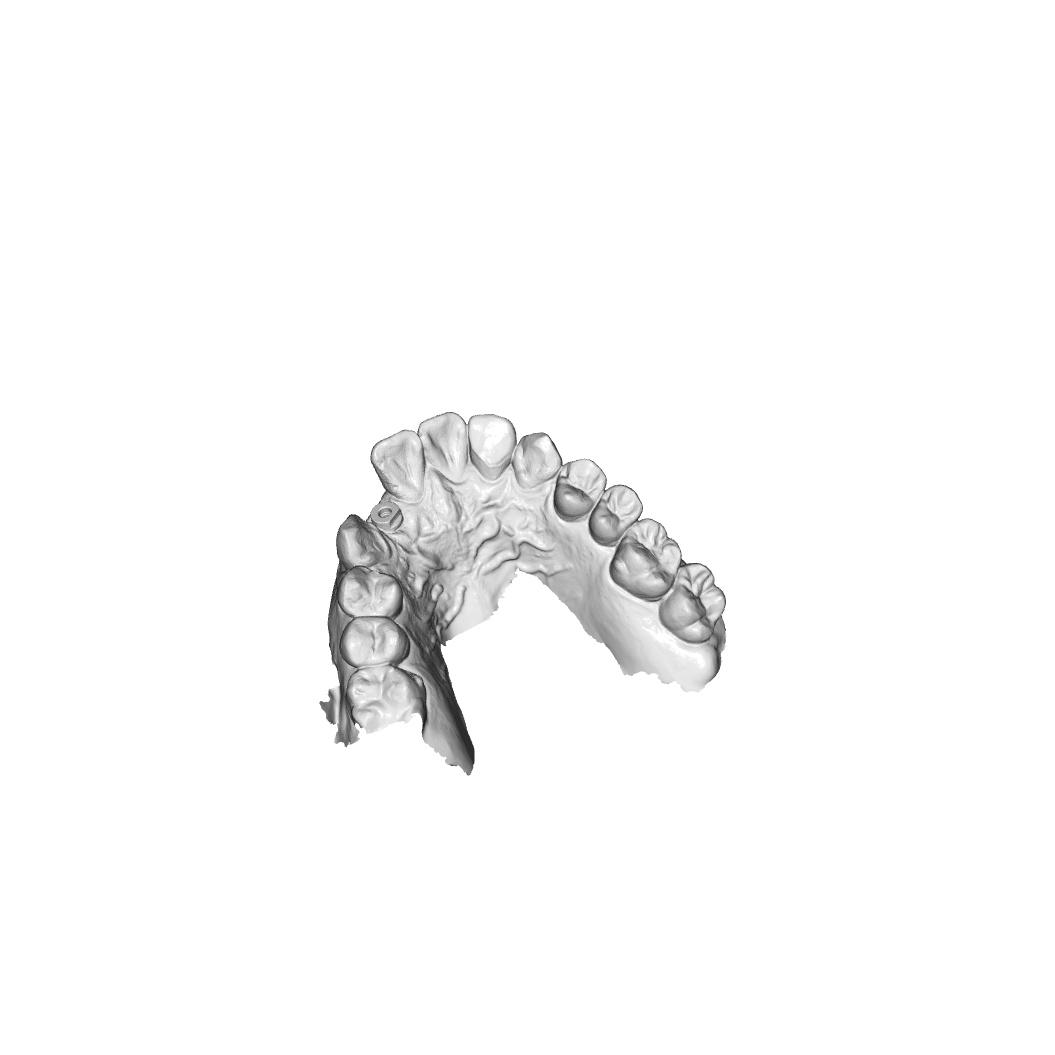canine: (334, 513, 389, 570), (512, 431, 563, 490)
implant: (369, 501, 405, 534)
incisor: (369, 428, 425, 503), (416, 411, 468, 486), (467, 412, 517, 482)
molar: (608, 516, 684, 599), (657, 562, 727, 646), (346, 664, 427, 731)
premolar: (338, 615, 412, 669), (336, 565, 405, 620), (588, 483, 644, 545), (552, 457, 608, 519)
